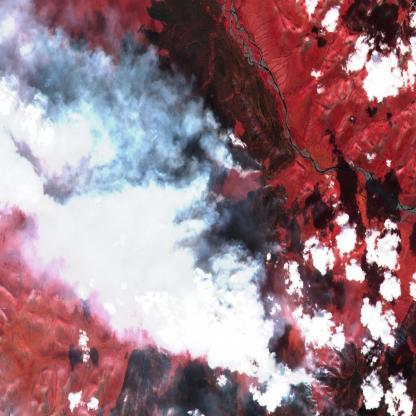fire: (13, 0, 416, 416)
